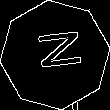N_W: (28, 32, 82, 78)
